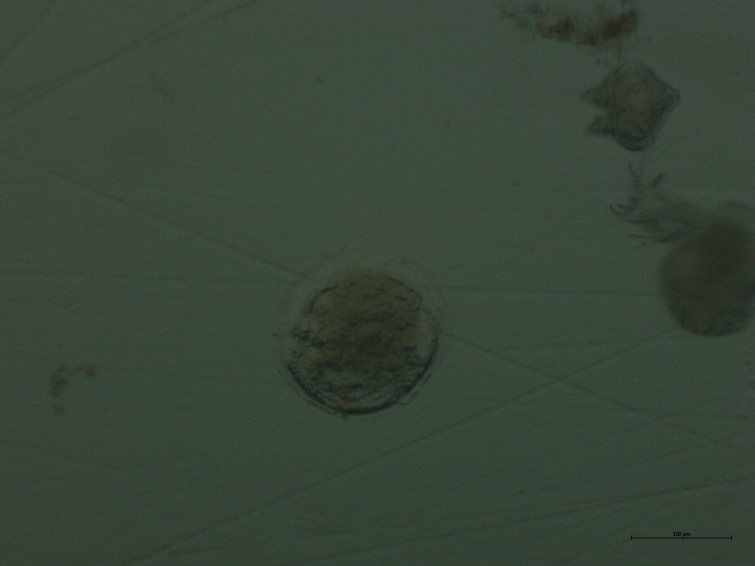oyster: (260, 243, 463, 433)
